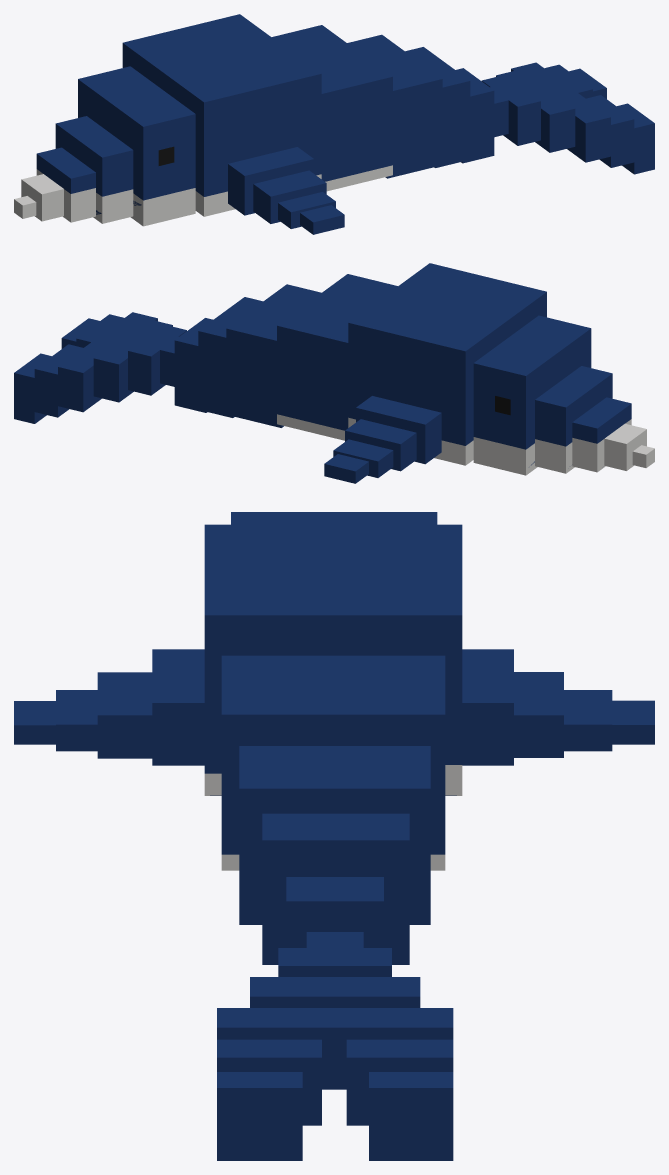
3 views of the same model, one above another, from view 1: azimuth 30°, elevation 25°; view 2: azimuth 150°, elevation 25°; view 3: azimuth 270°, elevation 25° (orthographic). The views are drawn at different scales.
Parts seen in each view (by area): view 1: Box008; view 2: Box008; view 3: Box008.
Boxes of the visible parts, x1,y1,x2,y2 form: Box008: [14, 14, 654, 234]; Box008: [14, 263, 654, 483]; Box008: [14, 512, 654, 1160].
Bounding box in the file's own units: 70.22 × 20.24 × 41.17.
Materials: 1 (1 with a texture image).
